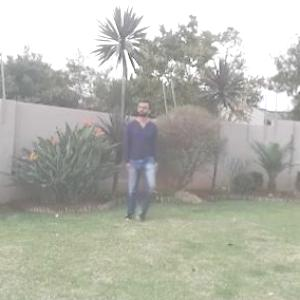follow: (122, 96, 158, 222)
